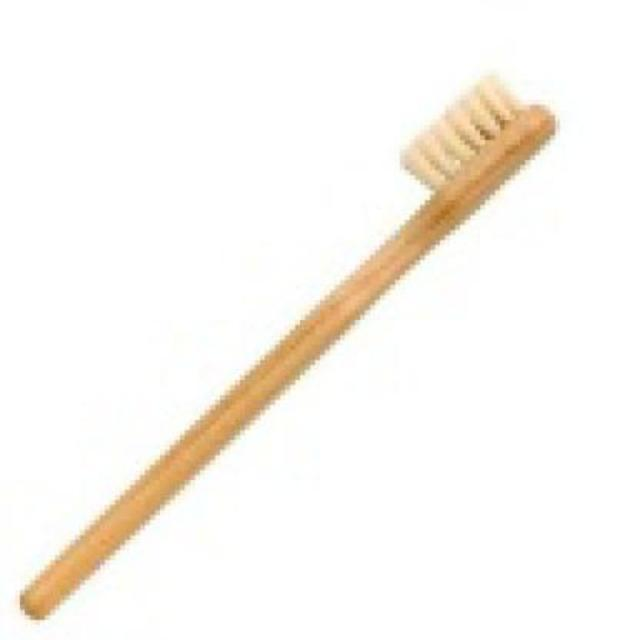toothbrush: (12, 62, 574, 614)
